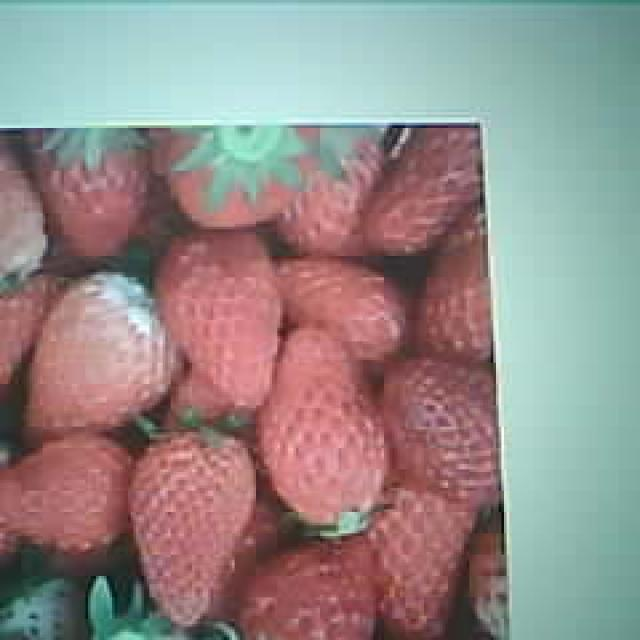ripe: (264, 326, 386, 526), (137, 434, 253, 624), (30, 288, 166, 441), (162, 228, 280, 400)
